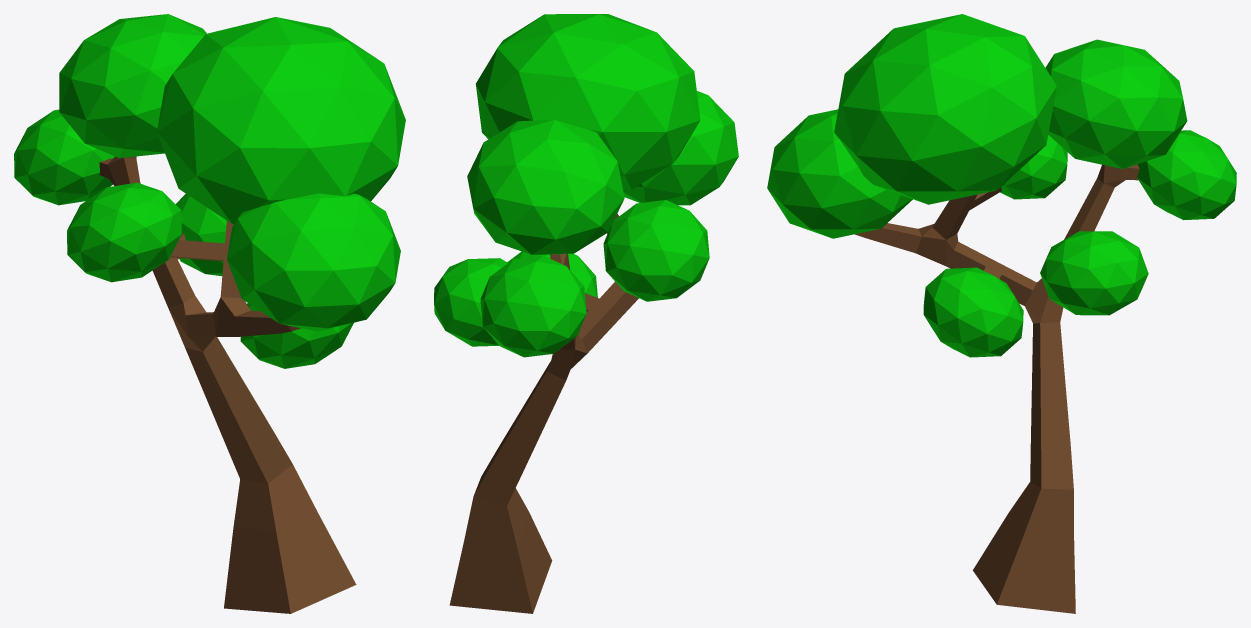
File: tree.glb
The picture shows the model from 3 angles, left to right: view 1: azimuth 30°, elevation 25°; view 2: azimuth 150°, elevation 25°; view 3: azimuth 270°, elevation 25°; orthographic projection. The views are drawn at different scales.
Parts seen in each view (by area): view 1: Icosphere.003, body, Icosphere, Icosphere.001, Icosphere.004, Icosphere.002, Icosphere.005, Icosphere.006; view 2: Icosphere.003, Icosphere.001, body, Icosphere.002, Icosphere.004, Icosphere, Icosphere.006, Icosphere.005; view 3: Icosphere.003, body, Icosphere.001, Icosphere, Icosphere.006, Icosphere.005, Icosphere.002, Icosphere.004.
Boxes of the visible parts, x1,y1,x2,y2 form: Icosphere.003: (157,17,405,224); body: (99,156,356,613); Icosphere: (227,193,400,331); Icosphere.001: (59,14,206,158); Icosphere.004: (67,182,181,282); Icosphere.002: (14,109,114,205); Icosphere.005: (240,303,353,368); Icosphere.006: (175,194,226,276); Icosphere.003: (476,14,700,189); Icosphere.001: (467,119,624,255); body: (449,214,638,613); Icosphere.002: (480,255,586,357); Icosphere.004: (603,200,709,301); Icosphere: (623,91,738,205); Icosphere.006: (434,258,507,346); Icosphere.005: (507,251,597,297); Icosphere.003: (834,14,1056,204); body: (855,164,1139,613); Icosphere.001: (1045,39,1187,168); Icosphere: (767,109,912,238); Icosphere.006: (1040,231,1148,315); Icosphere.005: (923,267,1023,357); Icosphere.002: (1137,130,1236,220); Icosphere.004: (1000,135,1067,199).
Size of the model in its own units: 0.8037 by 1.73 by 1.34.
